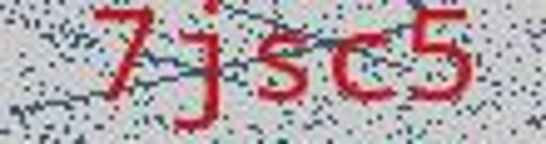5: (403, 1, 474, 109)
7: (87, 6, 162, 106)
c: (329, 25, 401, 107)
j: (168, 1, 231, 141)
s: (254, 22, 320, 113)
